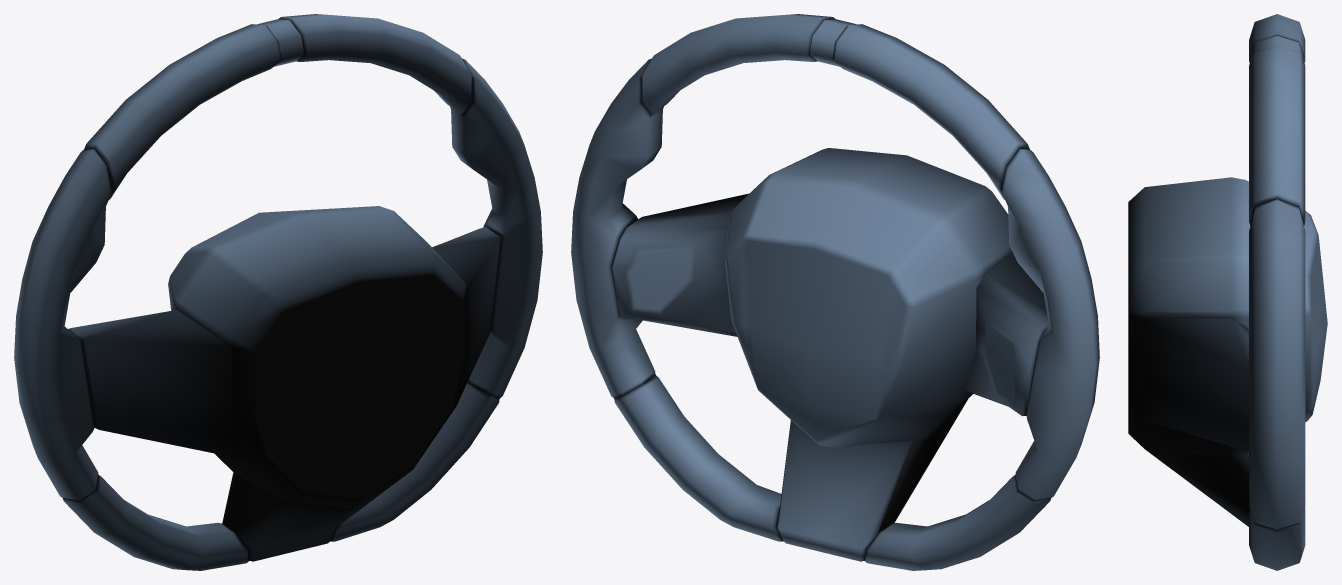
The model's file is Aventador_Steering_wheel.fbx.
3 renders of one model, left to right at view 1: azimuth 30°, elevation 25°; view 2: azimuth 150°, elevation 25°; view 3: azimuth 270°, elevation 25°, orthographic. The views are drawn at different scales.
Parts seen in each view (by area): view 1: Aventador_Steering_wheel; view 2: Aventador_Steering_wheel; view 3: Aventador_Steering_wheel.
Boxes of the visible parts, x1=… form: Aventador_Steering_wheel: x1=14, y1=14, x2=542, y2=570; Aventador_Steering_wheel: x1=571, y1=14, x2=1099, y2=570; Aventador_Steering_wheel: x1=1128, y1=14, x2=1327, y2=570.
Bounding box in the file's own units: 35.56 × 34.63 × 12.77.
